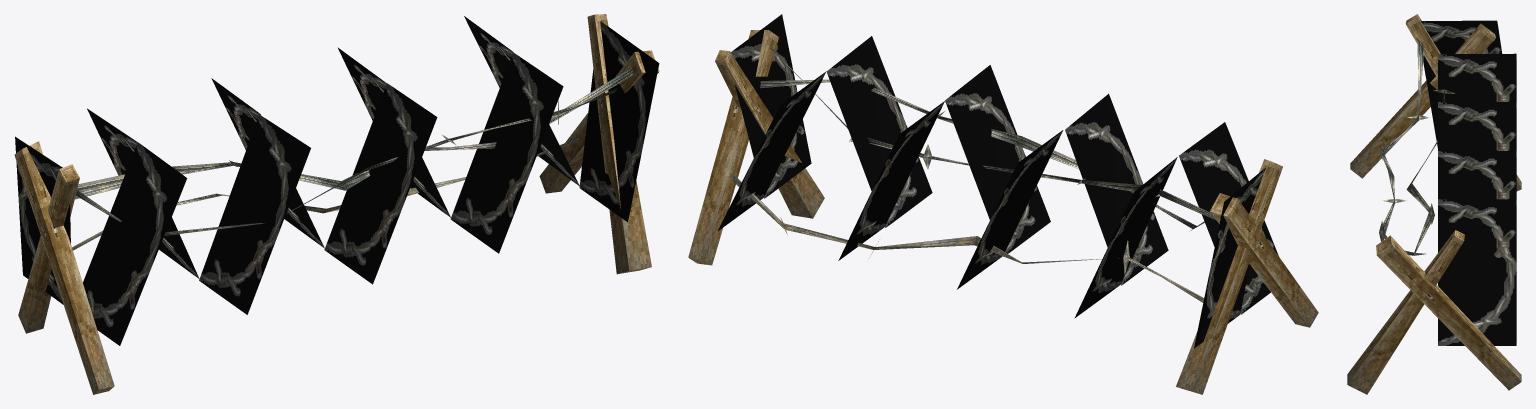
File: C3SMBWIR2H.obj
3 views of the same model, side by side, from view 1: azimuth 30°, elevation 25°; view 2: azimuth 150°, elevation 25°; view 3: azimuth 270°, elevation 25° (orthographic). The views are drawn at different scales.
Visible parts, largest first — view 1: Node 0, Node 7, Node 6, Node 9, Node 4, Node 2, Node 5, Node 3, Node 1, Node 8; view 2: Node 0, Node 9, Node 4, Node 6, Node 2, Node 7, Node 8, Node 3, Node 5; view 3: Node 0, Node 2, Node 4, Node 9, Node 6, Node 7, Node 3, Node 5, Node 1.
Boxes of the visible parts, x1,y1,x2,y2 form: Node 0: (14, 14, 659, 394); Node 7: (15, 136, 187, 345); Node 6: (87, 108, 310, 314); Node 9: (337, 47, 563, 253); Node 4: (211, 78, 437, 284); Node 2: (464, 16, 659, 222); Node 5: (74, 160, 370, 199); Node 3: (75, 88, 617, 235); Node 1: (425, 67, 633, 150); Node 8: (72, 137, 579, 250); Node 0: (688, 30, 1318, 394); Node 9: (826, 36, 944, 260); Node 4: (945, 65, 1063, 289); Node 6: (1065, 93, 1177, 318); Node 2: (717, 14, 826, 231); Node 7: (1179, 122, 1278, 348); Node 8: (732, 174, 1204, 302); Node 3: (760, 79, 1204, 231); Node 5: (924, 156, 1216, 220); Node 0: (1347, 14, 1521, 394); Node 2: (1438, 199, 1516, 345); Node 4: (1438, 102, 1516, 150); Node 9: (1438, 151, 1516, 199); Node 6: (1438, 53, 1516, 101); Node 7: (1421, 20, 1502, 147); Node 3: (1379, 38, 1429, 241); Node 5: (1406, 87, 1455, 214); Node 1: (1405, 203, 1434, 255).
Bounding box in the file's own units: 6.63 × 2.34 × 2.18.
Materials: 10 (10 with a texture image).
